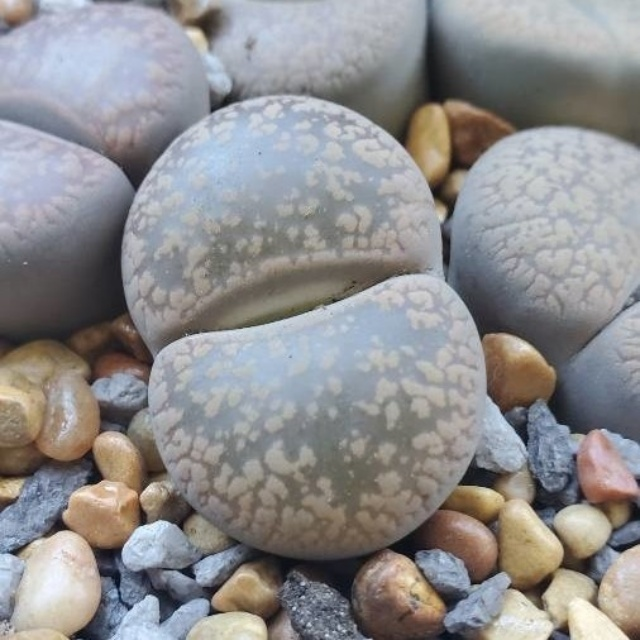obstacle: (123, 95, 483, 558), (185, 0, 639, 145), (573, 306, 639, 439)
